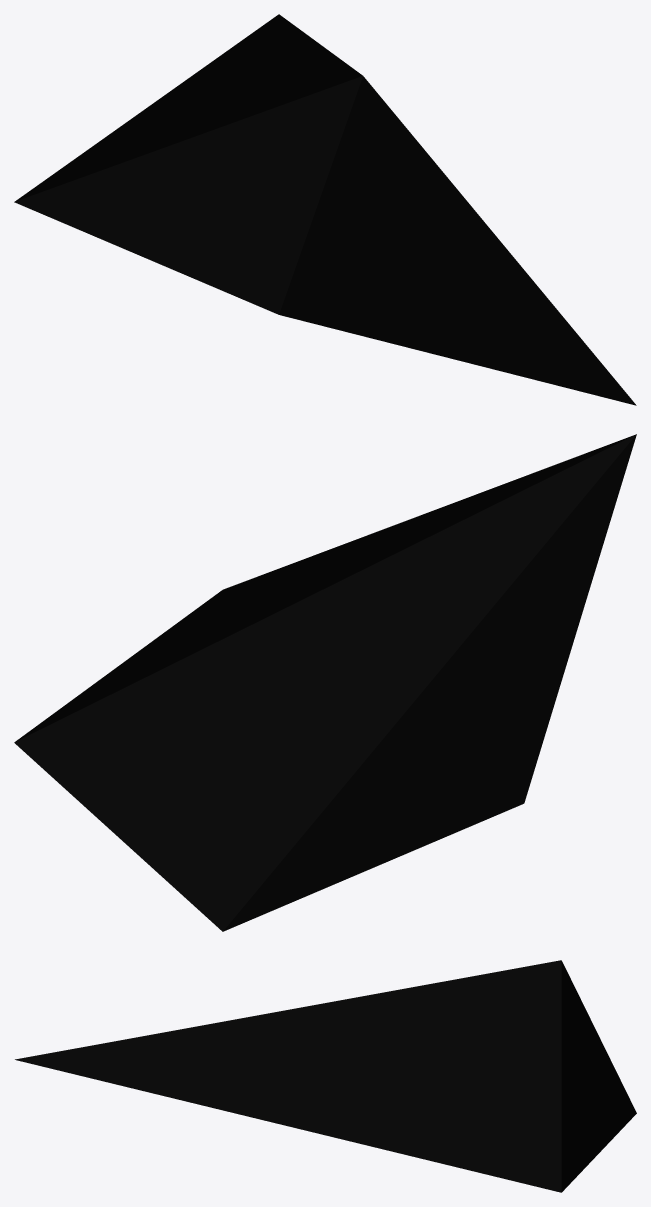
3 renders of one model, top to bottom at view 1: azimuth 30°, elevation 25°; view 2: azimuth 150°, elevation 25°; view 3: azimuth 270°, elevation 25°, orthographic. The views are drawn at different scales.
Bounding box in the file's own units: 0.029 × 0.0209 × 0.0518.
Materials: 1 (1 with a texture image).
